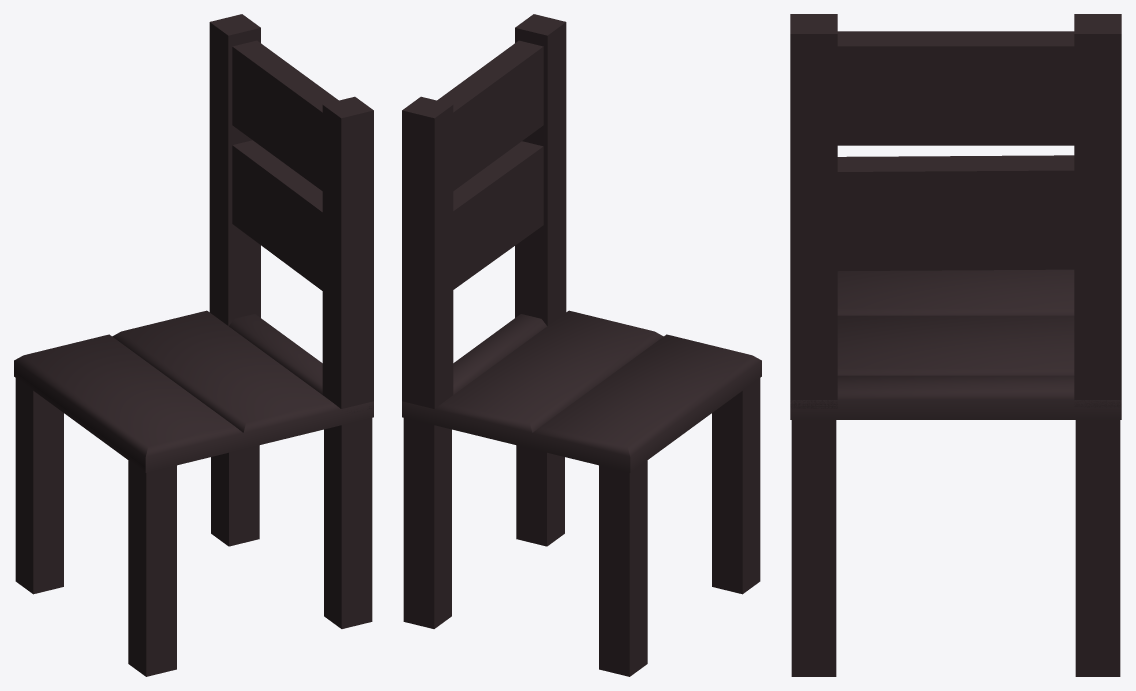
File: outside_chair.fbx
3 renders of one model, left to right at view 1: azimuth 30°, elevation 25°; view 2: azimuth 150°, elevation 25°; view 3: azimuth 270°, elevation 25°, orthographic. The views are drawn at different scales.
Parts seen in each view (by area): view 1: outside_chair; view 2: outside_chair; view 3: outside_chair.
Boxes of the visible parts, x1=… form: outside_chair: x1=14, y1=14, x2=373, y2=676; outside_chair: x1=402, y1=14, x2=761, y2=676; outside_chair: x1=790, y1=14, x2=1121, y2=676.
Bounding box in the file's own units: 63 × 63 × 135.
